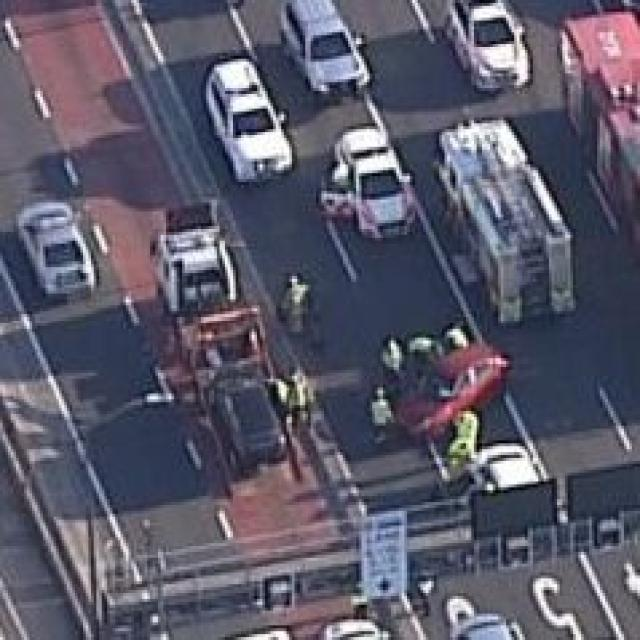traffic_incident: (378, 311, 512, 455)
